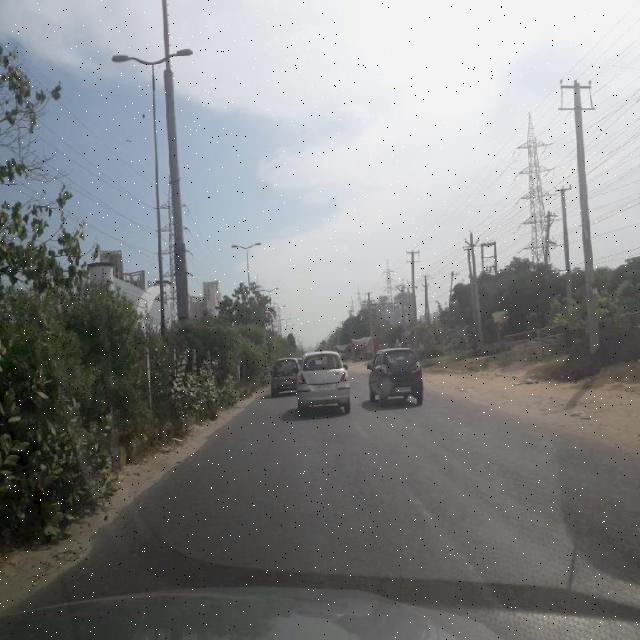D20: (60, 426, 638, 623)
D44: (402, 470, 506, 608)
